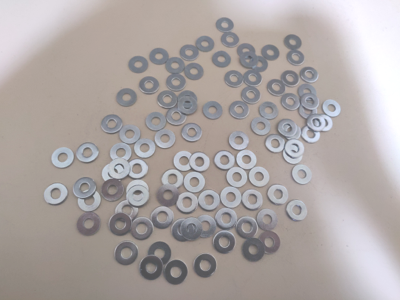circle: (164, 260, 189, 286), (77, 212, 102, 237), (115, 200, 140, 224), (114, 242, 139, 266), (140, 256, 164, 281), (130, 217, 154, 241), (194, 254, 218, 278), (151, 206, 175, 230), (45, 183, 69, 206), (109, 213, 132, 237), (156, 184, 179, 208), (172, 219, 195, 243), (195, 215, 217, 240), (181, 217, 203, 242), (102, 179, 125, 202), (78, 190, 101, 213), (214, 231, 237, 254), (149, 242, 172, 265), (126, 186, 150, 208), (243, 239, 265, 263), (51, 148, 74, 170), (127, 180, 149, 203), (198, 190, 221, 212), (259, 232, 281, 255), (236, 217, 258, 239), (216, 208, 238, 230), (74, 178, 97, 199), (173, 151, 196, 172), (161, 169, 184, 190), (221, 187, 242, 210), (258, 209, 279, 232), (77, 143, 99, 164), (109, 159, 131, 180), (110, 143, 132, 164), (287, 200, 308, 222), (268, 184, 289, 206), (214, 150, 236, 171), (184, 172, 206, 193), (177, 193, 199, 214), (227, 167, 248, 189), (242, 190, 264, 211), (166, 106, 187, 127), (128, 159, 149, 180), (249, 167, 270, 188), (101, 114, 123, 134), (189, 152, 211, 172), (135, 139, 156, 159), (146, 112, 167, 132), (182, 123, 203, 143), (203, 101, 224, 121), (283, 145, 304, 165), (292, 165, 313, 185), (119, 125, 141, 144), (155, 130, 177, 149), (102, 164, 124, 183), (237, 150, 257, 170), (229, 131, 249, 151), (139, 76, 160, 95), (117, 88, 138, 107), (178, 97, 199, 116), (178, 91, 199, 110), (251, 117, 272, 136), (265, 135, 287, 153), (230, 101, 250, 120), (260, 102, 280, 121), (298, 102, 318, 121), (285, 139, 305, 158), (302, 125, 321, 144), (129, 56, 149, 74), (167, 74, 187, 92), (158, 91, 178, 109), (314, 114, 334, 132), (225, 70, 244, 88), (166, 57, 185, 75), (242, 87, 261, 105), (307, 114, 326, 132), (278, 119, 297, 137), (283, 123, 302, 141), (184, 63, 204, 80), (281, 94, 301, 111), (281, 70, 300, 87), (268, 79, 287, 96), (244, 70, 263, 87), (150, 48, 169, 65), (298, 84, 317, 101), (322, 100, 341, 117), (240, 52, 258, 69), (213, 51, 231, 68), (283, 34, 302, 50), (180, 45, 199, 61), (301, 94, 320, 110), (301, 66, 318, 83), (262, 45, 280, 61), (287, 50, 305, 66), (196, 37, 215, 52), (251, 56, 268, 72), (216, 18, 234, 33), (221, 32, 239, 47), (238, 43, 256, 58)
